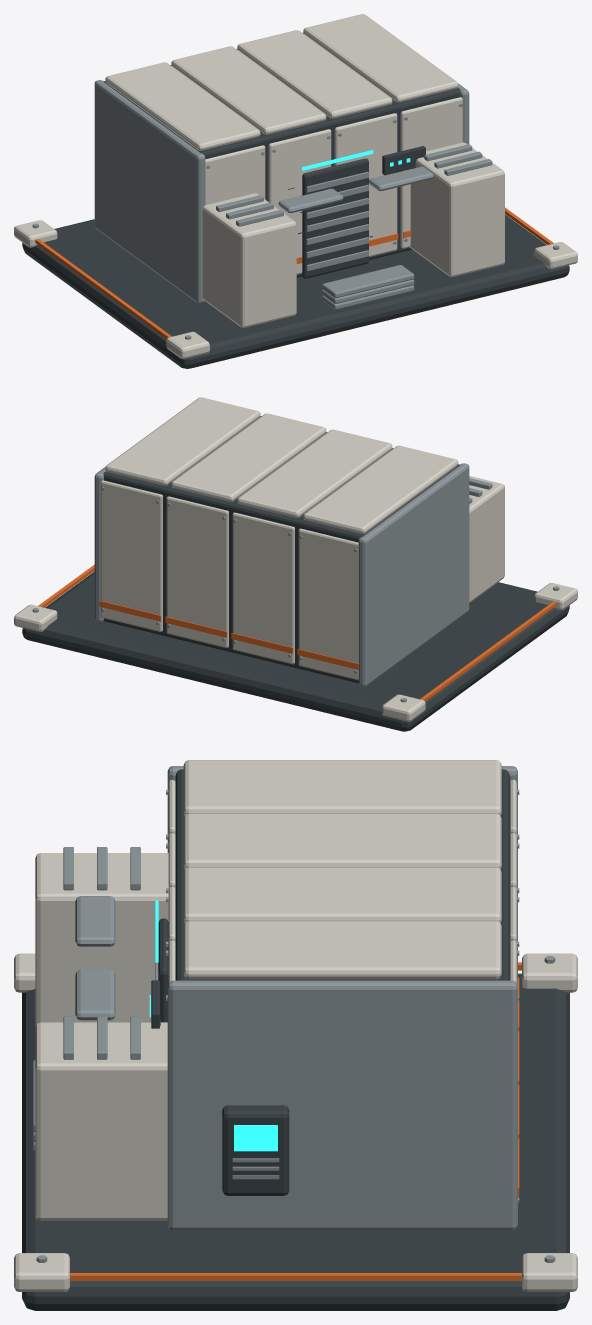
File: SM_DronePartsWorkshop_Body.001.fbx
3 renders of one model, top to bottom at view 1: azimuth 30°, elevation 25°; view 2: azimuth 150°, elevation 25°; view 3: azimuth 270°, elevation 25°, orthographic. The views are drawn at different scales.
Parts seen in each view (by area): view 1: SM_DronePartsWorkshop_Body.001; view 2: SM_DronePartsWorkshop_Body.001; view 3: SM_DronePartsWorkshop_Body.001.
Boxes of the visible parts, box(x1,y1,x2,y2) form: SM_DronePartsWorkshop_Body.001: box(14, 14, 577, 368); SM_DronePartsWorkshop_Body.001: box(14, 397, 577, 731); SM_DronePartsWorkshop_Body.001: box(14, 760, 577, 1310).
Bounding box in the file's own units: 572 × 422 × 243.
